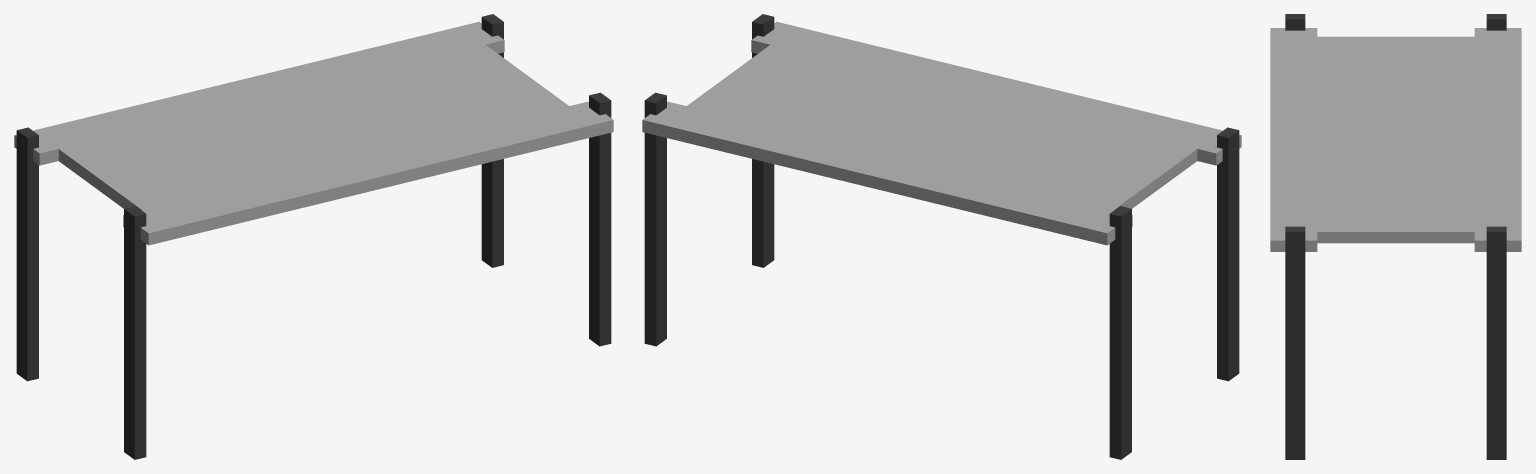
File: shelves1.fbx
3 views of the same model, side by side, from view 1: azimuth 30°, elevation 25°; view 2: azimuth 150°, elevation 25°; view 3: azimuth 270°, elevation 25° (orthographic). The views are drawn at different scales.
Parts seen in each view (by area): view 1: shelves1; view 2: shelves1; view 3: shelves1.
Part boxes in pixels (bbox=[...]): shelves1: bbox=[14, 14, 613, 459]; shelves1: bbox=[642, 14, 1241, 459]; shelves1: bbox=[1270, 14, 1521, 459].
Size of the model in its own units: 1025 by 500 by 500.
